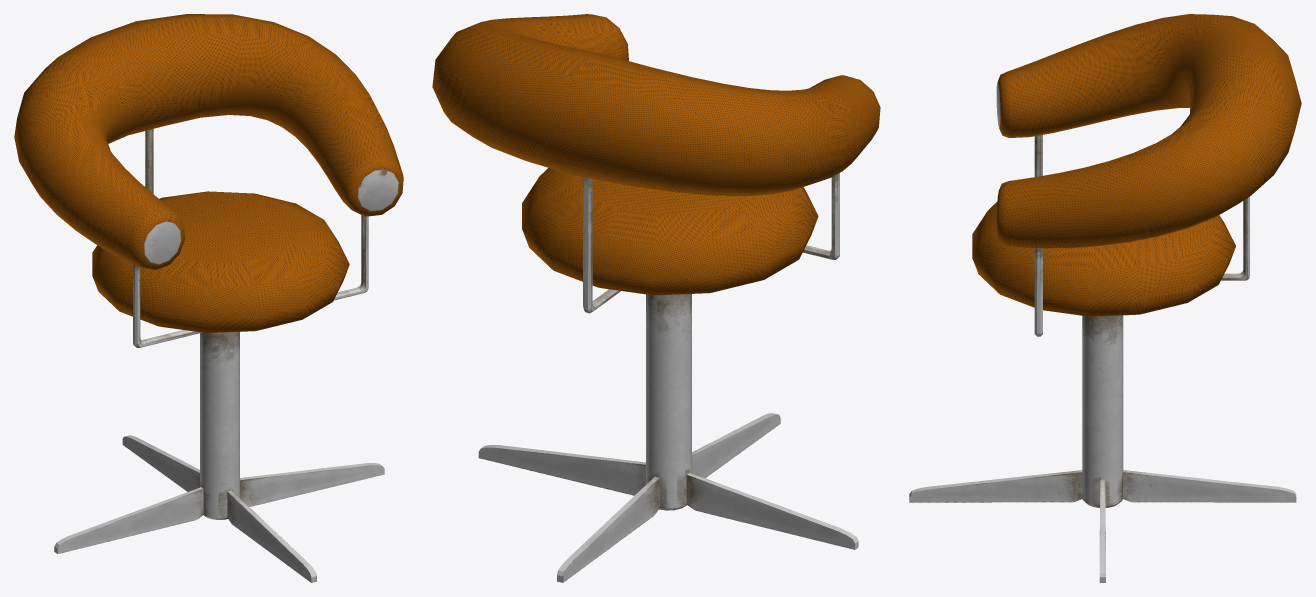
File: Chair.fbx
The picture shows the model from 3 angles, left to right: view 1: azimuth 30°, elevation 25°; view 2: azimuth 150°, elevation 25°; view 3: azimuth 270°, elevation 25°; orthographic projection. The views are drawn at different scales.
Parts seen in each view (by area): view 1: Cylinder.003, Cylinder; view 2: Cylinder.003, Cylinder; view 3: Cylinder.003, Cylinder.
Boxes of the visible parts, left/top/right/bottom form: Cylinder.003: left=14, top=14, right=403, bottom=333; Cylinder: left=54, top=129, right=384, bottom=582; Cylinder.003: left=432, top=14, right=880, bottom=295; Cylinder: left=478, top=173, right=858, bottom=582; Cylinder.003: left=972, top=14, right=1301, bottom=316; Cylinder: left=909, top=135, right=1296, bottom=582.
Bounding box in the file's own units: 104 × 133 × 105.
2 materials, 2 textured.
